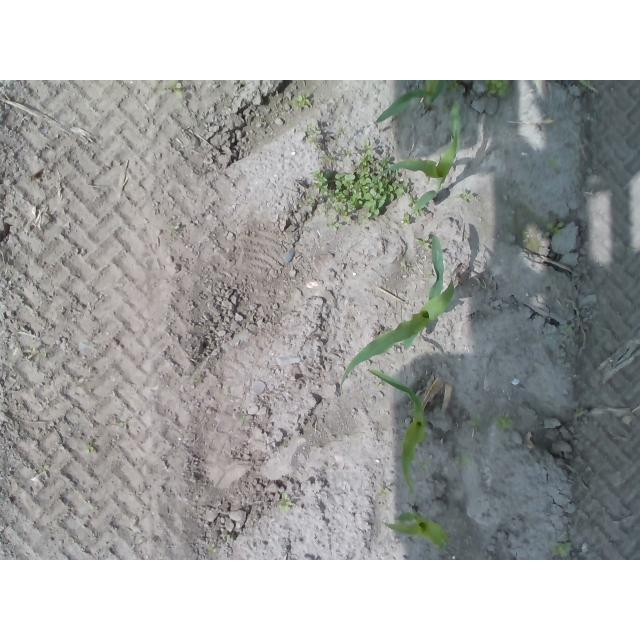Maize: (340, 234, 457, 388), (391, 98, 462, 217), (368, 366, 429, 499), (383, 506, 450, 551), (374, 81, 442, 124)
Weeds: (311, 141, 411, 231), (548, 540, 572, 561), (482, 80, 512, 96), (541, 220, 563, 237), (275, 493, 293, 511), (494, 415, 514, 430), (166, 80, 182, 98), (298, 94, 314, 110), (305, 123, 319, 137), (560, 323, 576, 335), (455, 455, 472, 466), (469, 413, 483, 426), (415, 238, 430, 250), (413, 208, 432, 217), (459, 190, 473, 202), (418, 459, 428, 473), (83, 447, 97, 454), (239, 416, 245, 425)
